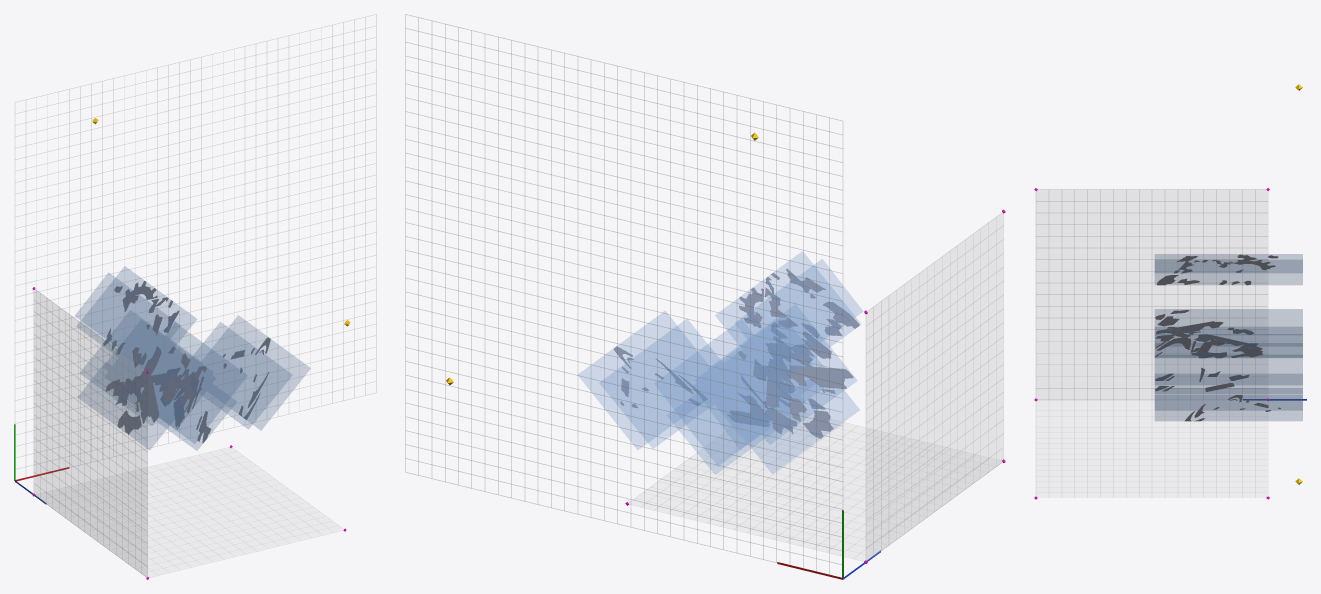
Rendered from cs_technion_shards.obj.
The picture shows the model from 3 angles, left to right: view 1: azimuth 30°, elevation 25°; view 2: azimuth 150°, elevation 25°; view 3: azimuth 270°, elevation 25°; orthographic projection. The views are drawn at different scales.
Parts seen in each view (by area): view 1: wall_A, wall_B, grid_floor, panel_S3, panel_S6, panel_S8, panel_S2, panel_S7, panel_S1, panel_S9, panel_S0, panel_S4 (+4 smaller); view 2: wall_A, wall_B, grid_floor, panel_S3, panel_S6, panel_S2, panel_S8, panel_S7, panel_S9, panel_S1, panel_S0, panel_S4 (+4 smaller); view 3: wall_A, wall_B, panel_S1, grid_wallA, panel_S6, panel_S3, panel_S8, panel_S2, panel_S5, panel_S4, panel_S7, panel_S0 (+3 smaller).
Part boxes in pixels (x1,y1,x2,y2): wall_A: (34,290,146,576); wall_B: (37,448,343,577); grid_floor: (15,14,376,469); panel_S3: (76,266,196,379); panel_S6: (212,315,310,430); panel_S8: (193,322,292,429); panel_S2: (80,339,202,425); panel_S7: (75,272,180,368); panel_S1: (159,326,247,443); panel_S9: (78,362,177,449); panel_S0: (107,345,213,419); panel_S4: (156,384,236,450); wall_A: (866,213,1002,560); wall_B: (629,423,1001,560); grid_floor: (405,14,842,574); panel_S3: (715,251,860,387); panel_S6: (578,311,696,449); panel_S2: (708,340,857,444); panel_S8: (600,319,719,448); panel_S7: (735,259,862,375); panel_S9: (738,367,859,473); panel_S1: (654,324,760,465); panel_S0: (695,347,823,437); panel_S4: (667,393,764,474); wall_A: (1036,190,1267,399); wall_B: (1036,400,1267,497); panel_S1: (1155,355,1302,384); grid_wallA: (1036,189,1267,399); panel_S6: (1155,395,1302,420); panel_S3: (1155,260,1302,284); panel_S8: (1155,388,1302,409); panel_S2: (1155,309,1302,333); panel_S5: (1155,334,1302,356); panel_S4: (1155,374,1302,393); panel_S7: (1155,254,1302,272); panel_S0: (1155,327,1302,345).
Size of the model in its own units: 3318 by 3318 by 2115.
